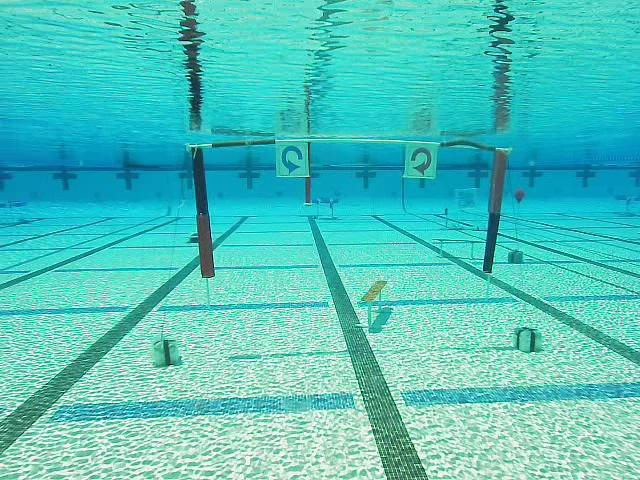buoy: (513, 189, 525, 205)
gate: (187, 138, 510, 279)
gate_blue: (276, 142, 309, 177)
gate_leg_l: (187, 144, 216, 278)
gate_leg_r: (482, 148, 510, 273)
gate_red: (405, 144, 439, 179)
table: (312, 198, 338, 221)
torpedo: (456, 187, 477, 210)
